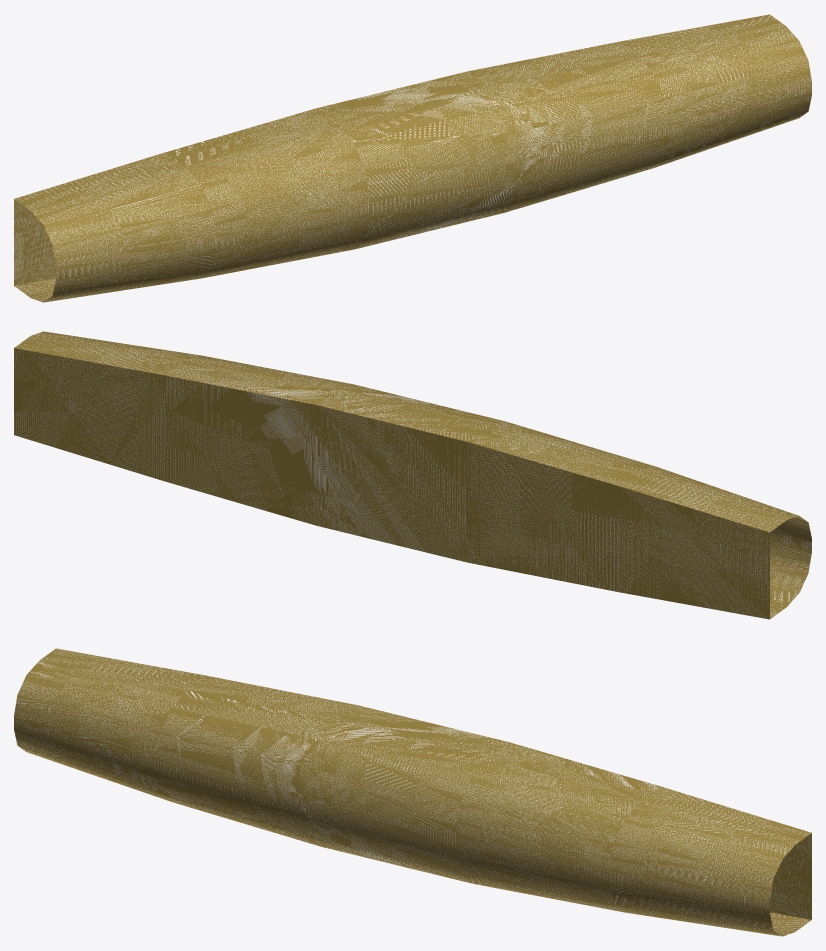
The model's file is original-58.obj.
The picture shows the model from 3 angles, top to bottom: view 1: azimuth 30°, elevation 25°; view 2: azimuth 150°, elevation 25°; view 3: azimuth 330°, elevation 25°; orthographic projection.
Visible parts, largest first — view 1: _7026_2_2/_7026_2/mesh26/mesh26-geometry#mesh26-geometry; view 2: _7026_2_2/_7026_2/mesh26/mesh26-geometry#mesh26-geometry; view 3: _7026_2_2/_7026_2/mesh26/mesh26-geometry#mesh26-geometry.
Boxes of the visible parts, x1,y1,x2,y2 form: _7026_2_2/_7026_2/mesh26/mesh26-geometry#mesh26-geometry: (14,14,811,302); _7026_2_2/_7026_2/mesh26/mesh26-geometry#mesh26-geometry: (14,331,811,619); _7026_2_2/_7026_2/mesh26/mesh26-geometry#mesh26-geometry: (14,648,811,936).
Bounding box in the file's own units: 0.1995 × 0.0304 × 0.0244.
